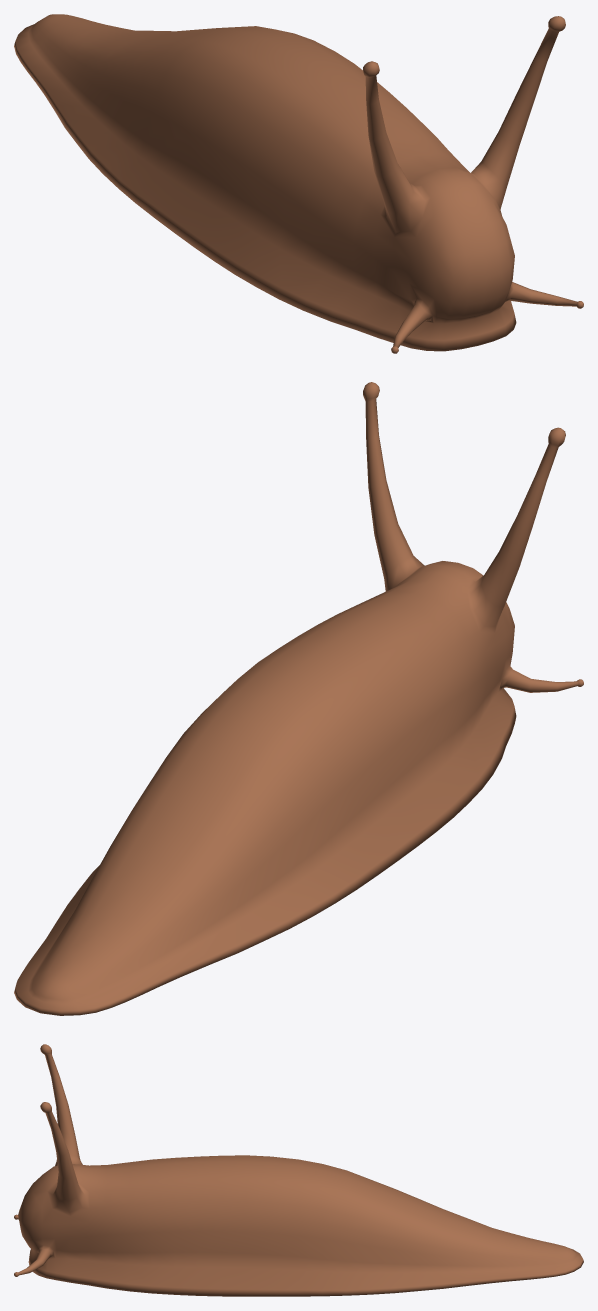
The model's file is snail_snail.obj.
3 renders of one model, top to bottom at view 1: azimuth 30°, elevation 25°; view 2: azimuth 150°, elevation 25°; view 3: azimuth 270°, elevation 25°, orthographic. The views are drawn at different scales.
Parts seen in each view (by area): view 1: snail; view 2: snail; view 3: snail.
Part boxes in pixels (x1=…): snail: x1=14, y1=14, x2=583, y2=353; snail: x1=14, y1=382, x2=583, y2=1015; snail: x1=14, y1=1044, x2=583, y2=1296.
Size of the model in its own units: 0.0199 by 0.0252 by 0.069.
